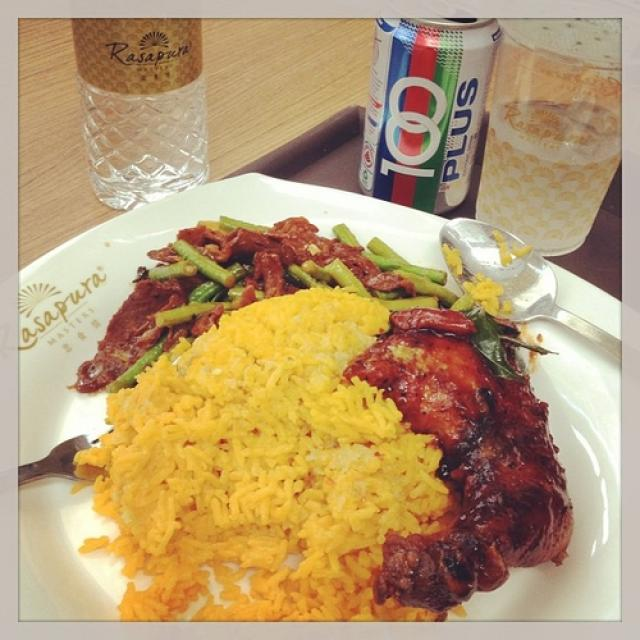米饭主食: (32, 40, 605, 608)
